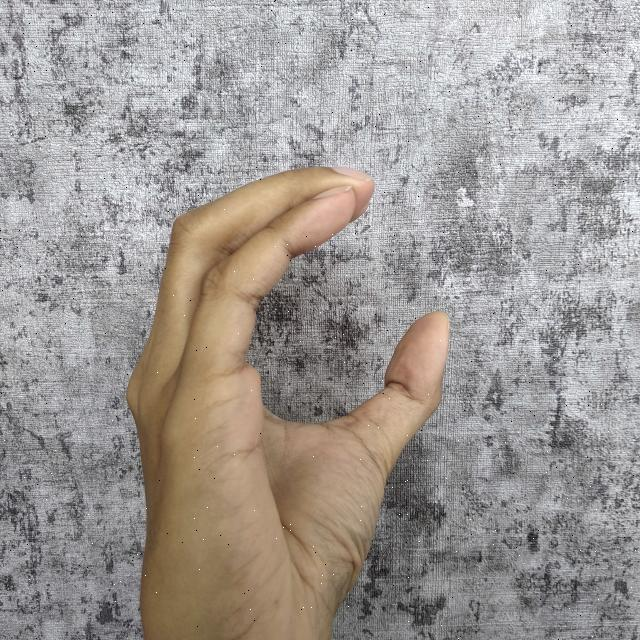C: (129, 159, 454, 640)
